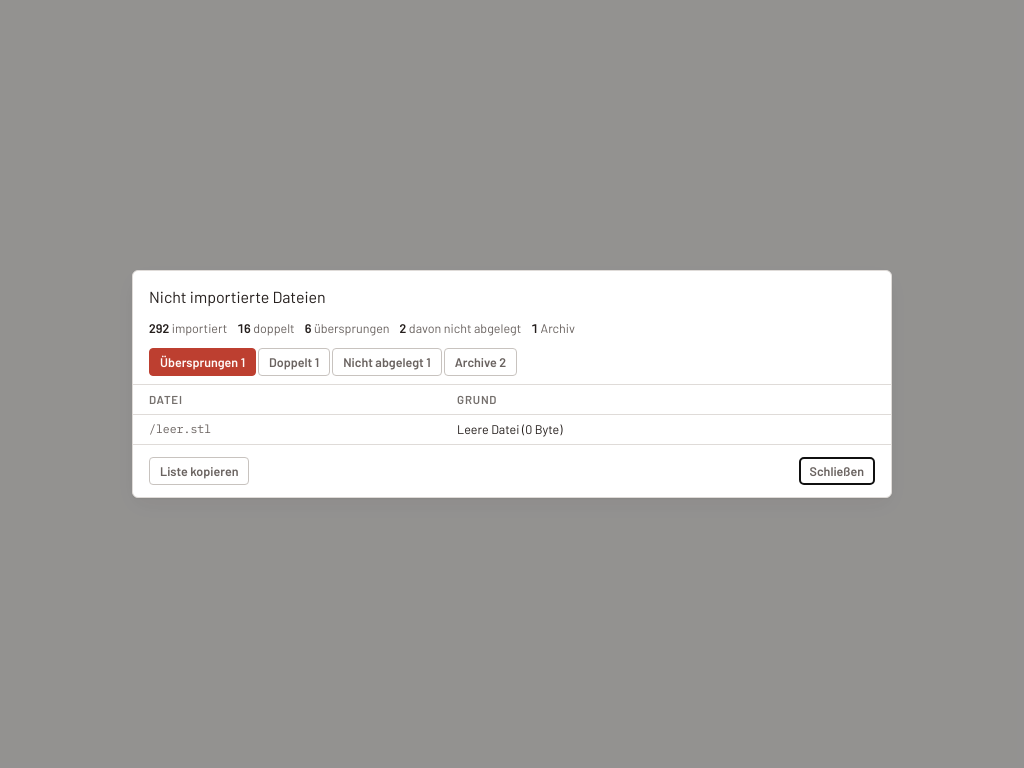
Test: copies every group and nested paths, with feedback
What coordinates should you click on to do the following:
click the button "Liste kopieren"
I would click on:
 (199, 471)
Its box is [149,457,250,485].
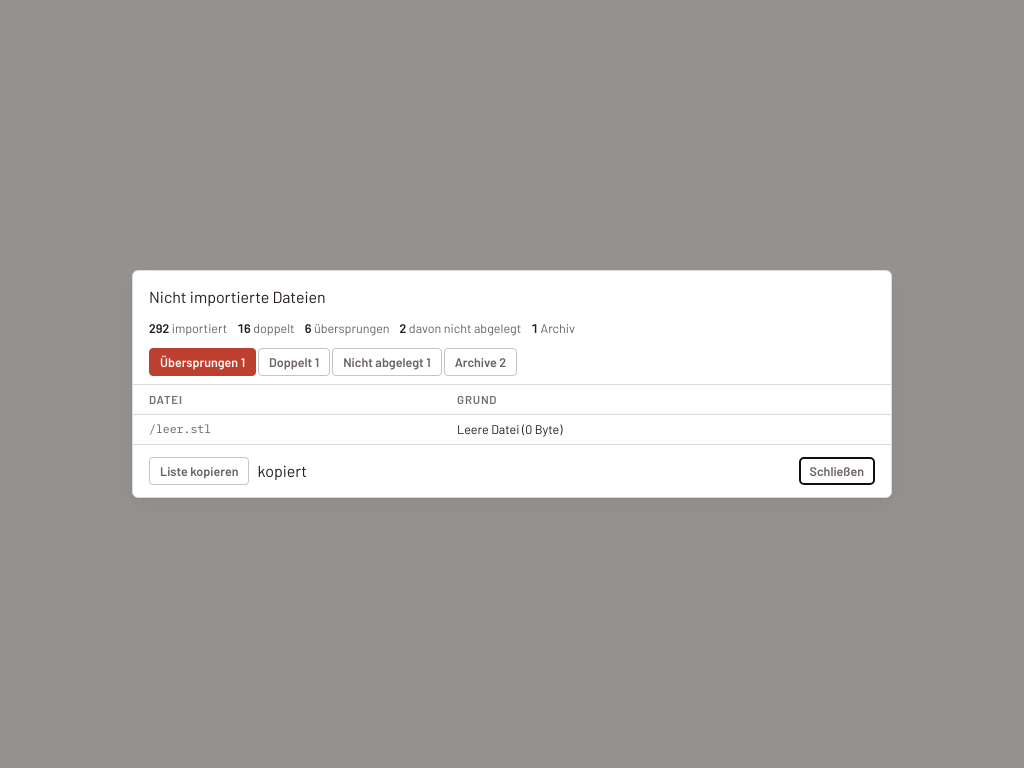
Result: the text "kopiert" is shown at [258,459,307,483]
